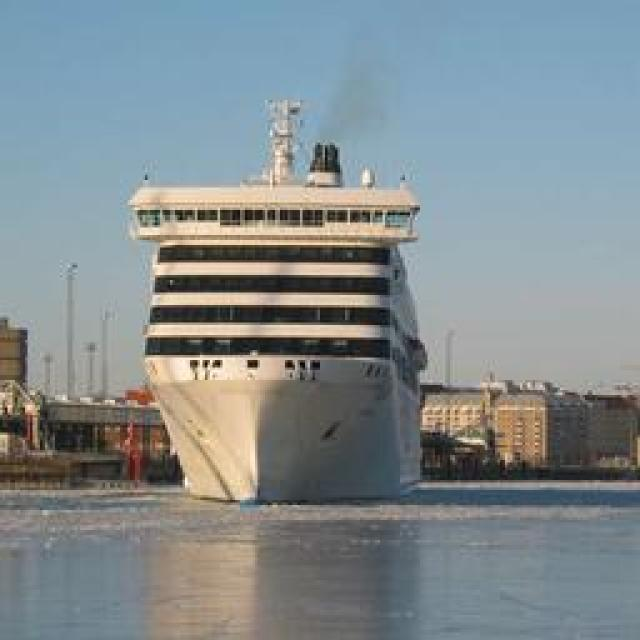ship2: (128, 102, 427, 506)
